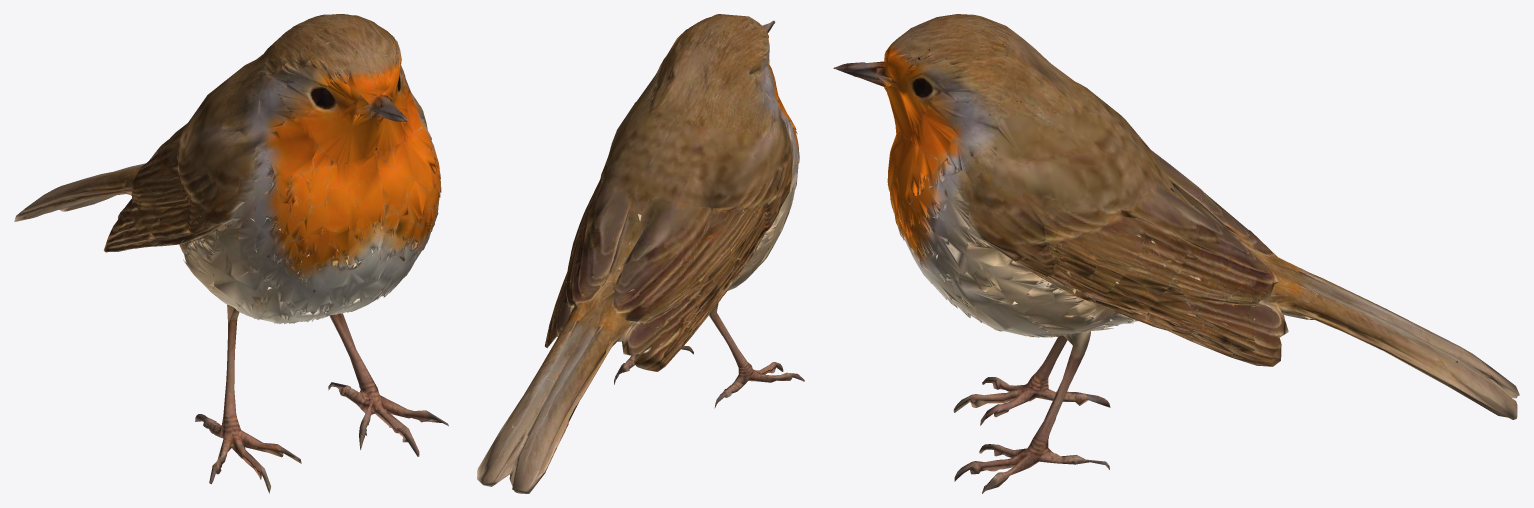
File: bird.glb
3 views of the same model, side by side, from view 1: azimuth 30°, elevation 25°; view 2: azimuth 150°, elevation 25°; view 3: azimuth 270°, elevation 25° (orthographic). The views are drawn at different scales.
Visible parts, largest first — view 1: bird; view 2: bird; view 3: bird.
Boxes of the visible parts, x1,y1,x2,y2 form: bird: [14, 14, 448, 493]; bird: [477, 14, 804, 493]; bird: [833, 14, 1519, 493].
Bounding box in the file's own units: 0.0531 × 0.0958 × 0.1398.
Materials: 1 (1 with a texture image).
